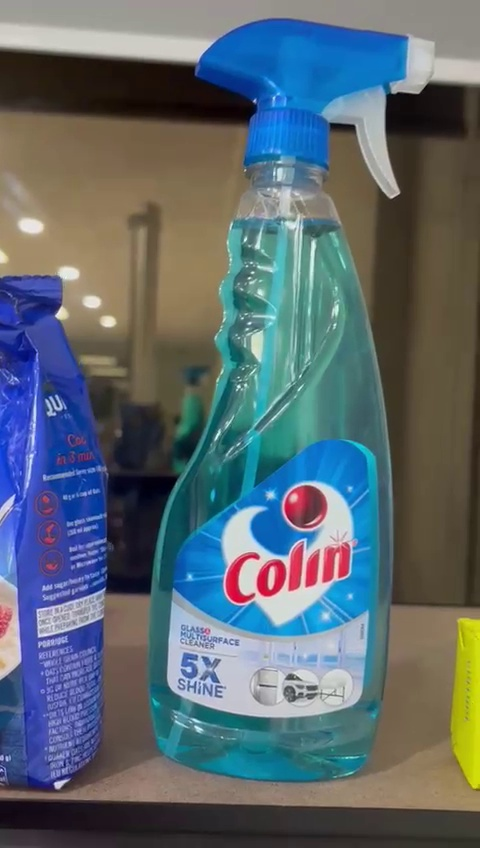Colin: (164, 13, 413, 789)
